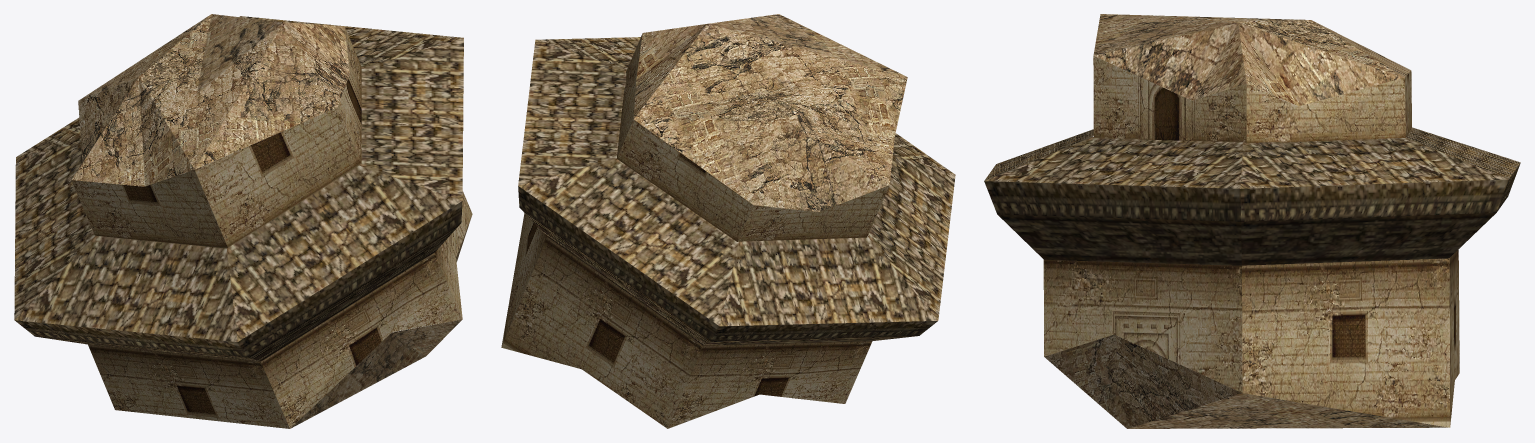
Rendered from w_cd_tower_broken02_01.glb.
3 renders of one model, left to right at view 1: azimuth 30°, elevation 25°; view 2: azimuth 150°, elevation 25°; view 3: azimuth 270°, elevation 25°, orthographic. The views are drawn at different scales.
Parts seen in each view (by area): view 1: w_cd_tower_broken02_03, w_cd_tower_broken02_01, w_cd_tower_broken02_02; view 2: w_cd_tower_broken02_03, w_cd_tower_broken02_01, w_cd_tower_broken02_02; view 3: w_cd_tower_broken02_01, w_cd_tower_broken02_03, w_cd_tower_broken02_02.
Boxes of the visible parts, x1,y1,x2,y2 form: w_cd_tower_broken02_03: [14, 16, 463, 361]; w_cd_tower_broken02_01: [71, 27, 472, 428]; w_cd_tower_broken02_02: [71, 14, 471, 428]; w_cd_tower_broken02_03: [518, 37, 955, 345]; w_cd_tower_broken02_01: [501, 33, 889, 428]; w_cd_tower_broken02_02: [633, 14, 907, 211]; w_cd_tower_broken02_01: [1043, 56, 1459, 427]; w_cd_tower_broken02_03: [984, 127, 1520, 265]; w_cd_tower_broken02_02: [1044, 14, 1447, 428].
Bounding box in the file's own units: 19.23 × 15.04 × 17.95.
3 materials, 3 textured.
